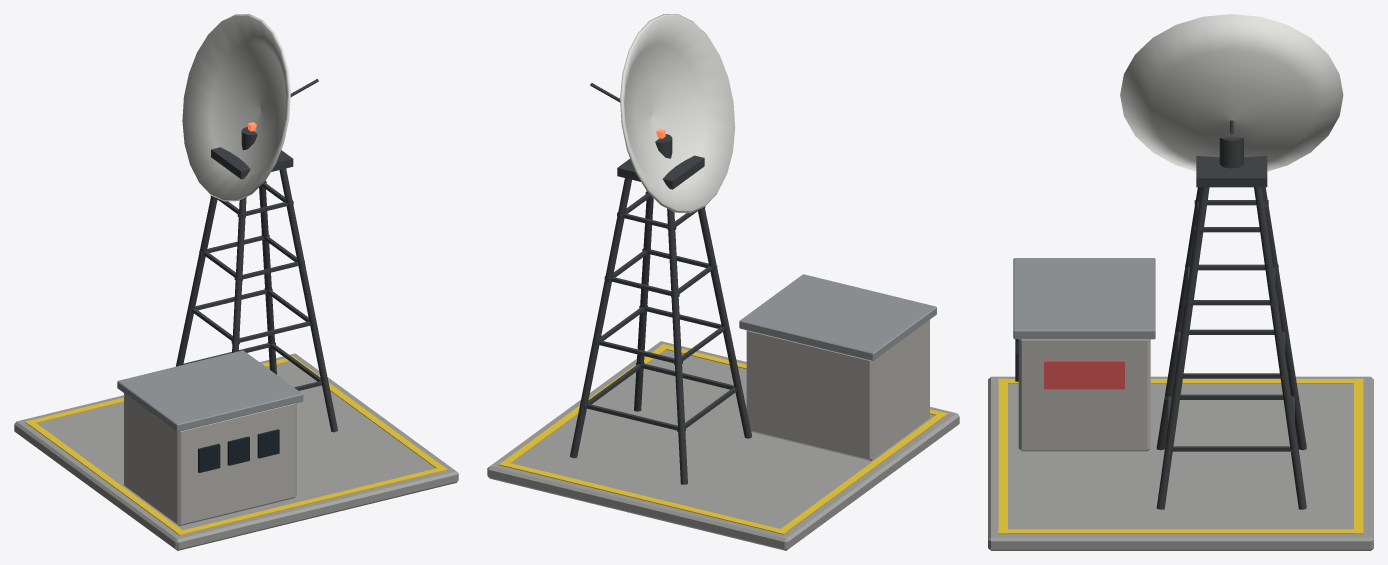
The model's file is radar.glb.
The picture shows the model from 3 angles, left to right: view 1: azimuth 30°, elevation 25°; view 2: azimuth 150°, elevation 25°; view 3: azimuth 270°, elevation 25°; orthographic projection. The views are drawn at different scales.
Parts seen in each view (by area): view 1: Base, Dish; view 2: Base, Dish; view 3: Base, Dish.
Part boxes in pixels (box(x1,y1,x2,y2)): Base: box(14, 147, 458, 550); Dish: box(182, 14, 318, 201); Base: box(487, 155, 959, 550); Dish: box(590, 14, 735, 213); Base: box(988, 156, 1373, 550); Dish: box(1120, 14, 1343, 171).
Bounding box in the file's own units: 7.6 × 10.52 × 7.6.
